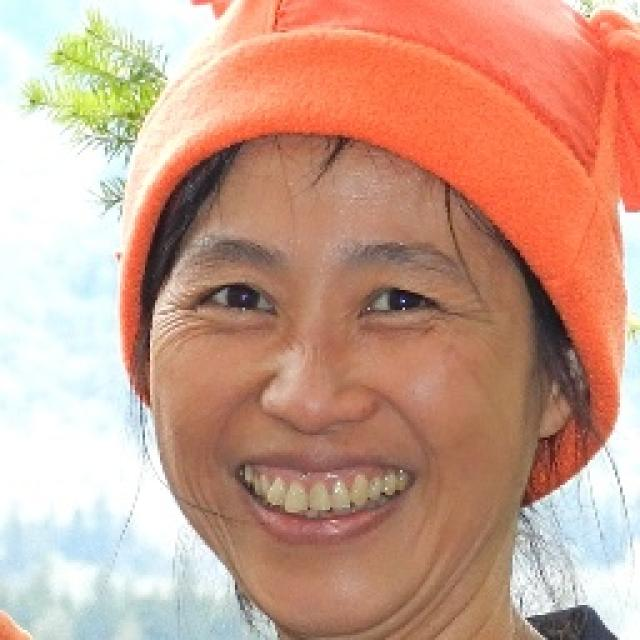earlobe: (538, 406, 564, 437)
eye: (200, 277, 277, 321), (362, 287, 440, 319)
nose: (263, 410, 378, 450)
wholeear: (539, 342, 591, 438)
